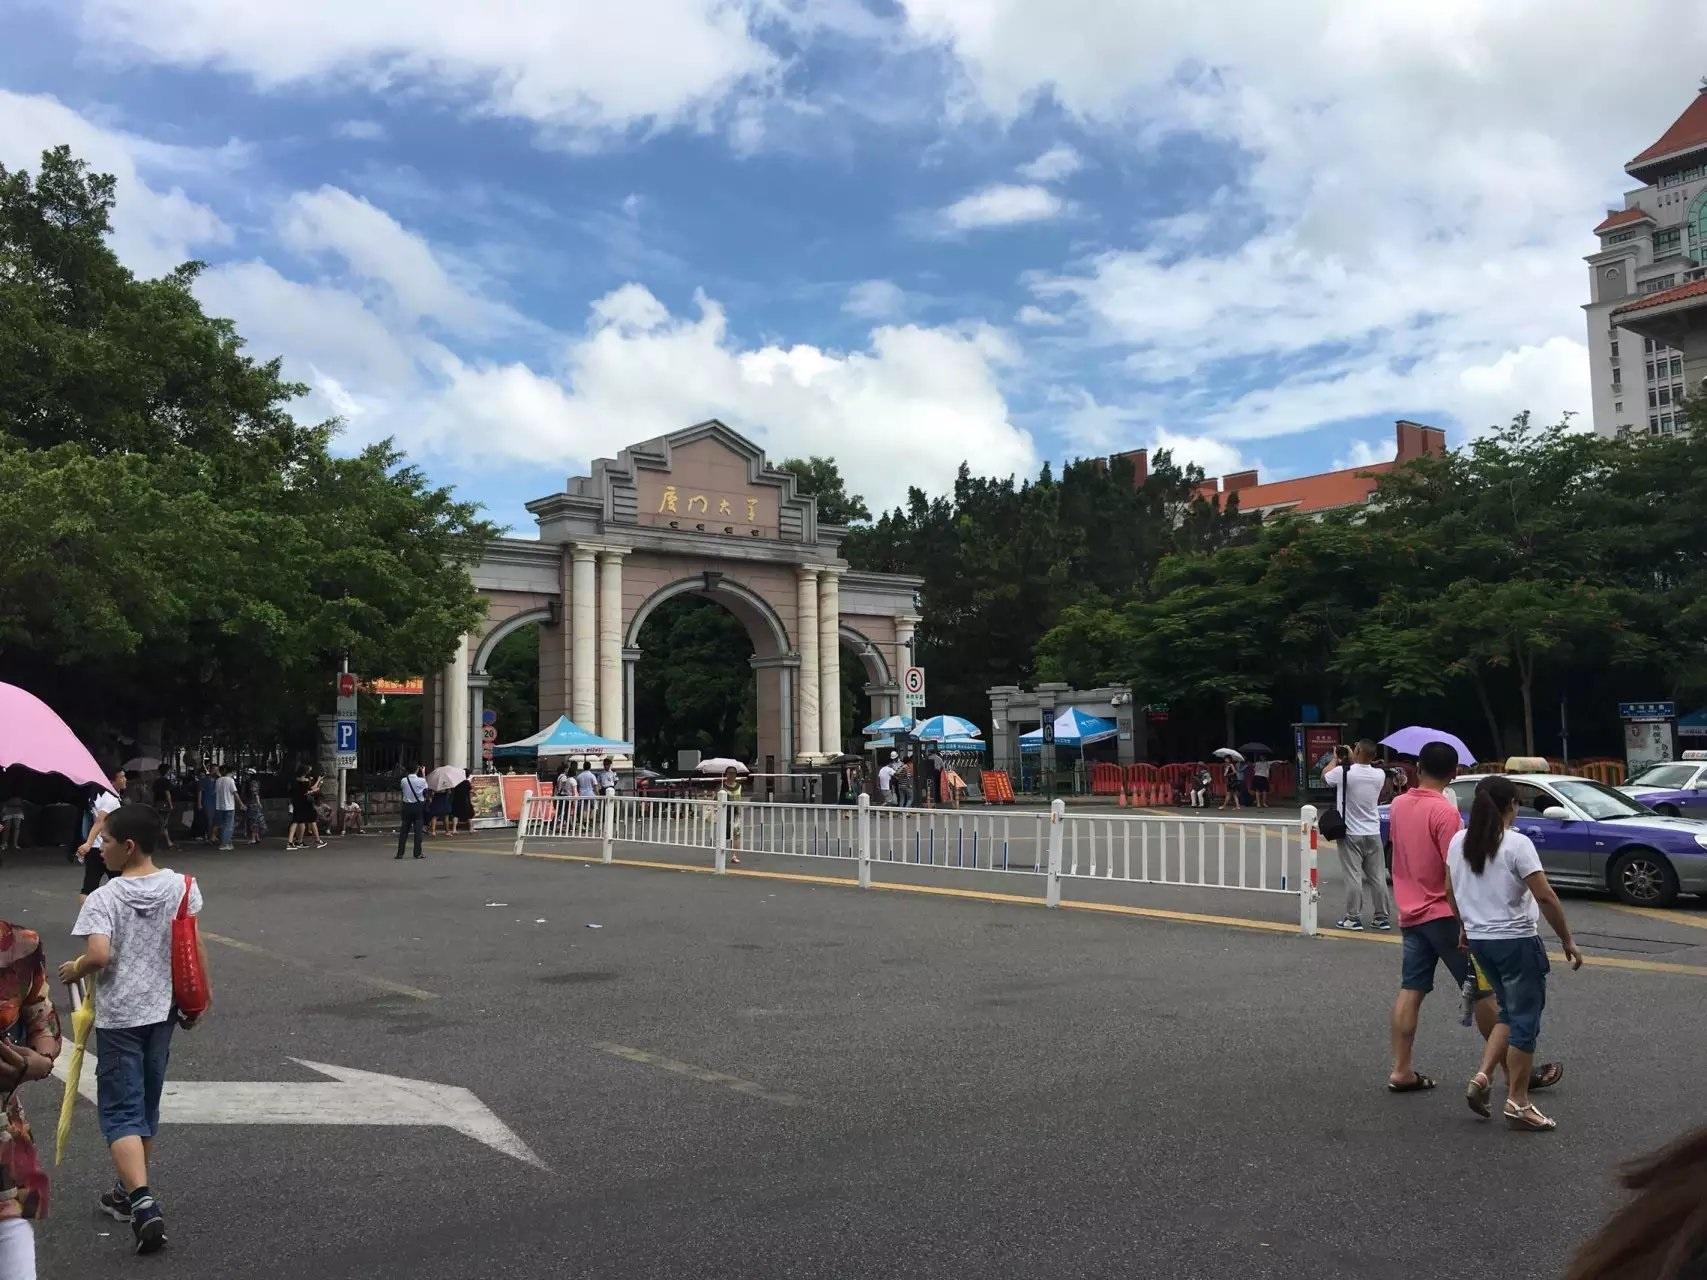man: (70, 801, 200, 1251), (1463, 785, 1560, 1135), (1387, 752, 1471, 1101), (1306, 730, 1395, 939), (204, 738, 273, 857), (708, 761, 752, 870), (291, 758, 336, 863), (394, 760, 432, 865), (1204, 744, 1253, 815)
xmu: (612, 464, 787, 533)
